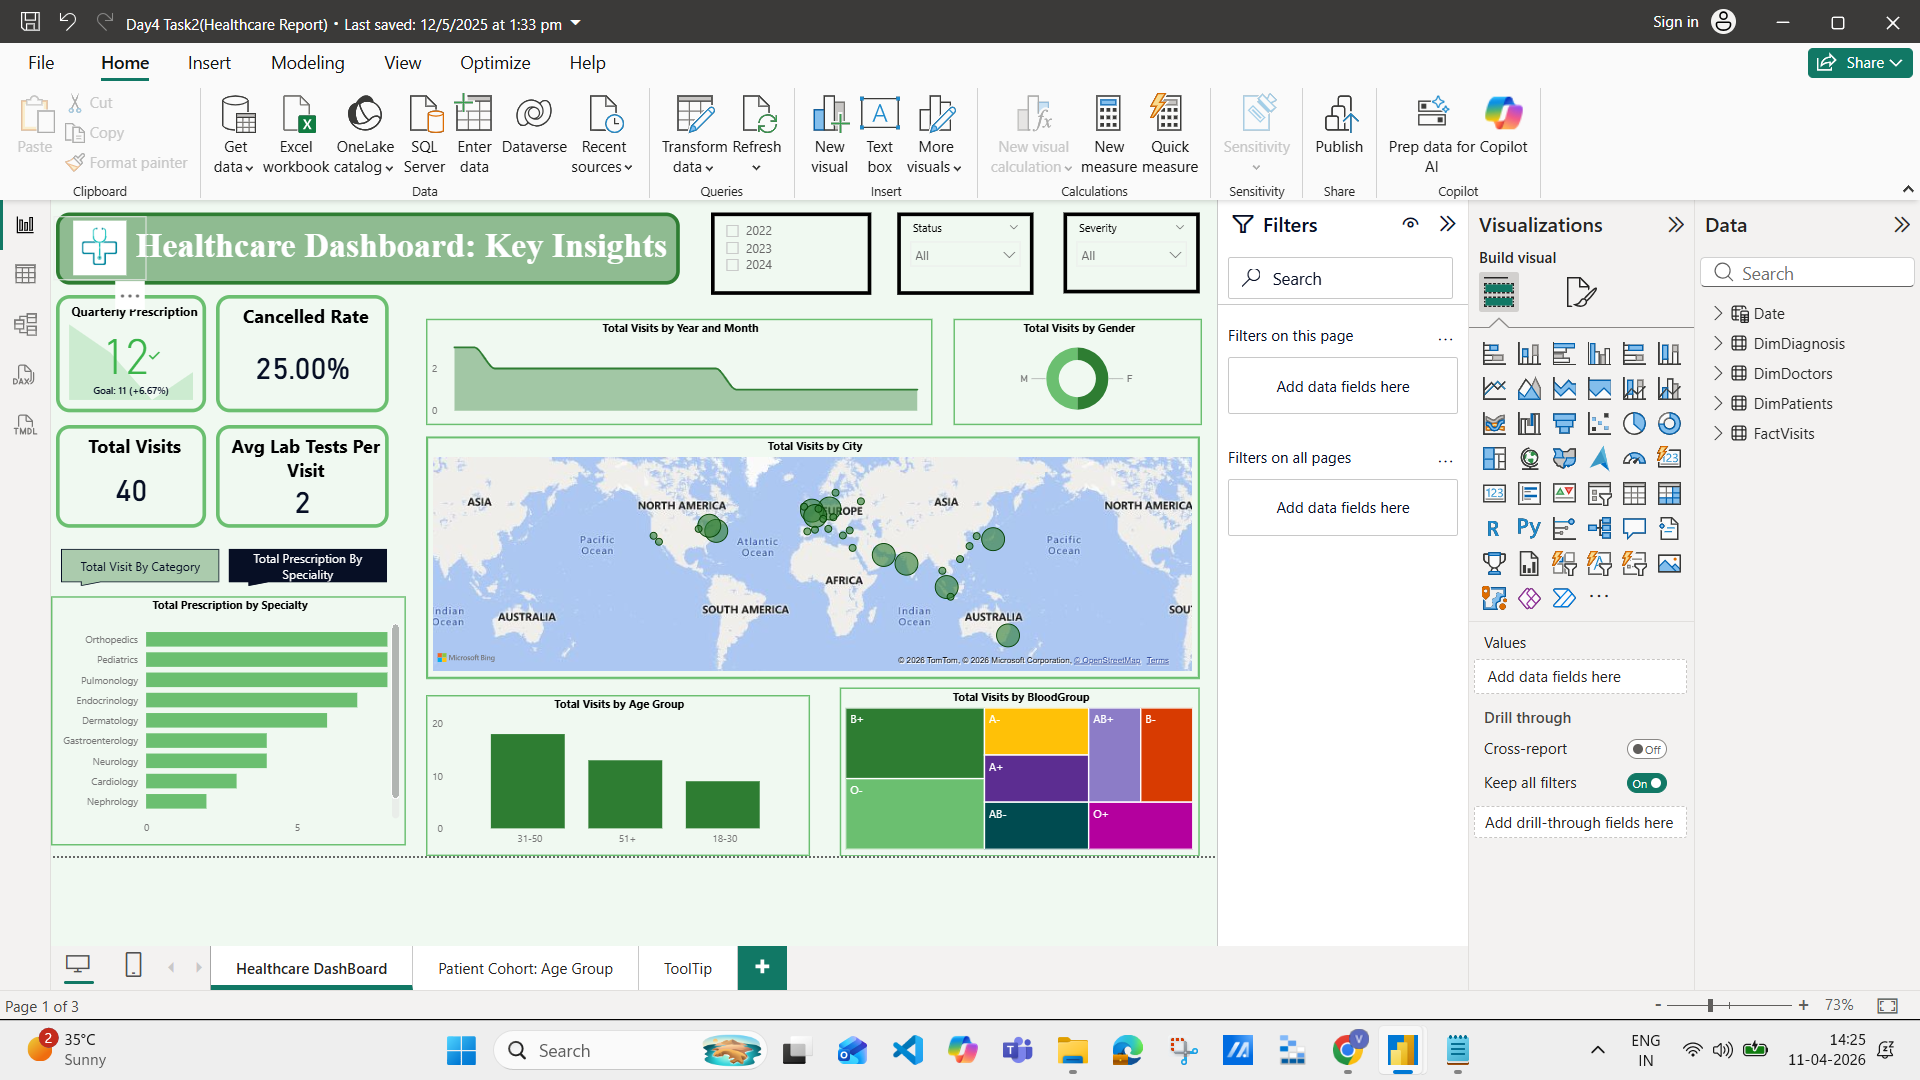

Layout of this report page (visuals, bound fields, positions):
{"tool":"powerbi","page":{"name":"Healthcare DashBoard","canvas":[1280,720],"ordinal":0},"visuals":[{"type":"kpi","title":"Quarterly Prescription","fields":{"TrendLine":["Date.Quarter"],"Goal":["FactVisits.Target Visits"],"Indicator":["Sum(FactVisits.Prescriptions)"]},"box":[5.5,104.3,164.7,129],"z":0},{"type":"card","title":"Total Visits","fields":{"Values":["FactVisits.Total Visits"]},"box":[5.5,247,164.7,112.5],"z":1000},{"type":"card","title":"Cancelled Rate","fields":{"Values":["FactVisits.Cancelled Rate"]},"box":[181.1,104.3,189.4,129],"z":2000},{"type":"card","title":"Avg Lab Tests Per Visit","fields":{"Values":["FactVisits.Avg. Prescriptions per Visit"]},"box":[181.1,247,189.4,112.5],"z":3000},{"type":"areaChart","fields":{"Category":["Date.Year","Date.Month"],"Y":["FactVisits.Total Visits"]},"box":[411.7,130.4,555.7,116.6],"z":4000},{"type":"slicer","fields":{"Values":["Date.Year"]},"box":[724.5,13.7,175.6,90.6],"z":6000},{"type":"map","fields":{"Category":["DimPatients.City"],"Size":["FactVisits.Total Visits"]},"box":[411.7,259.3,849.4,266.2],"z":7000},{"type":"donutChart","fields":{"Category":["DimPatients.Gender"],"Y":["FactVisits.Total Visits"]},"box":[990.7,130.4,273.1,116.6],"z":8000},{"type":"columnChart","fields":{"Category":["DimPatients.Age Group"],"Y":["FactVisits.Total Visits"]},"box":[411.7,543.4,421.3,177],"z":9000},{"type":"treemap","fields":{"Group":["DimPatients.BloodGroup"],"Values":["FactVisits.Total Visits"]},"box":[865.9,535.2,395.2,185.2],"z":10000},{"type":"barChart","fields":{"Category":["DimDoctors.Specialty"],"Y":["FactVisits.Total Prescription"]},"box":[0,434.7,389.9,273.4],"z":11000},{"type":"slicer","fields":{"Values":["FactVisits.Status"]},"box":[929,13.7,149.6,90.6],"z":12000},{"type":"slicer","fields":{"Values":["DimDiagnosis.Severity"]},"box":[1111.5,13.7,149.6,89.2],"z":13000},{"type":"textbox","box":[5.5,13.7,684.7,79.6],"z":14000},{"type":"image","box":[2.7,17.8,101.5,70],"z":15000},{"type":"bookmarkNavigator","box":[11,382.8,359.5,41.2],"z":16000}]}

Visuals, with their boxes on the page's 1280x720 design canvas (x1, y1, x2, y2). These are canvas units, not pixel positions in the 1920x1080 screenshot, which may show the page scaled, cropped or inside an application window:
"Quarterly Prescription" kpi: l=6, t=104, r=170, b=233
"Total Visits" card: l=6, t=247, r=170, b=360
"Cancelled Rate" card: l=181, t=104, r=370, b=233
"Avg Lab Tests Per Visit" card: l=181, t=247, r=370, b=360
areaChart - Date.Year x Date.Month: l=412, t=130, r=967, b=247
slicer - Date.Year: l=724, t=14, r=900, b=104
map - DimPatients.City x FactVisits.Total Visits: l=412, t=259, r=1261, b=526
donutChart - DimPatients.Gender x FactVisits.Total Visits: l=991, t=130, r=1264, b=247
columnChart - DimPatients.Age Group x FactVisits.Total Visits: l=412, t=543, r=833, b=720
treemap - DimPatients.BloodGroup x FactVisits.Total Visits: l=866, t=535, r=1261, b=720
barChart - DimDoctors.Specialty x FactVisits.Total Prescription: l=0, t=435, r=390, b=708
slicer - FactVisits.Status: l=929, t=14, r=1079, b=104
slicer - DimDiagnosis.Severity: l=1112, t=14, r=1261, b=103
textbox: l=6, t=14, r=690, b=93
image: l=3, t=18, r=104, b=88
bookmarkNavigator: l=11, t=383, r=370, b=424
